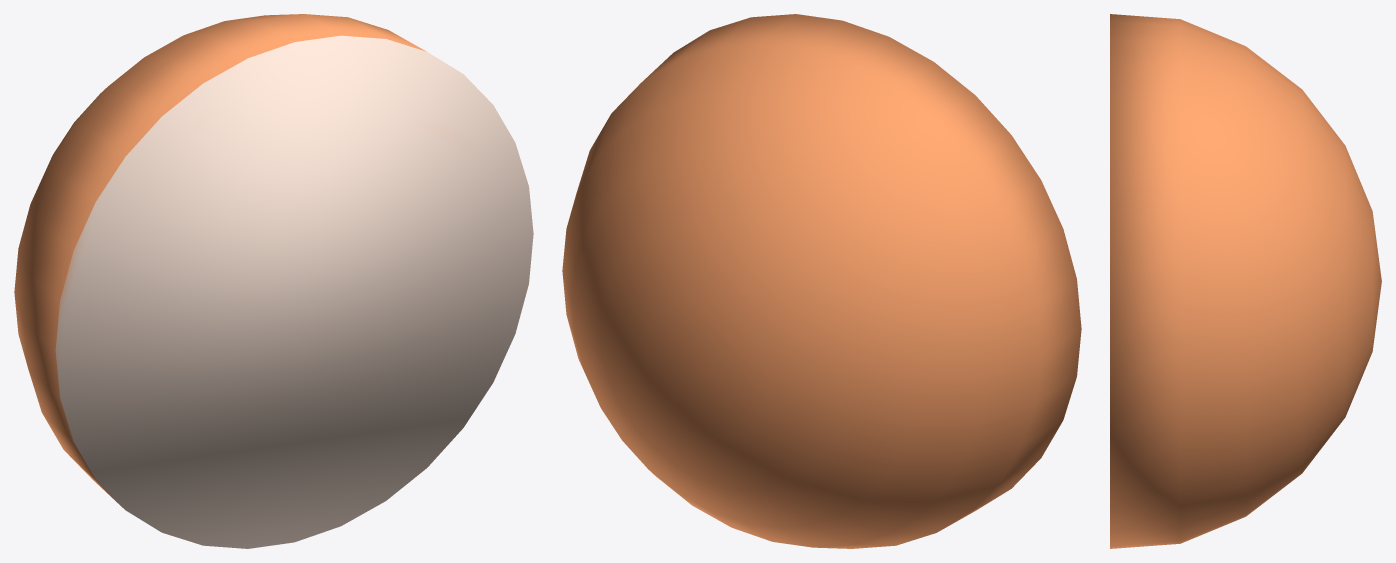
File: PanSuperior.fbx
3 renders of one model, left to right at view 1: azimuth 30°, elevation 25°; view 2: azimuth 150°, elevation 25°; view 3: azimuth 270°, elevation 25°, orthographic. The views are drawn at different scales.
Visible parts, largest first — view 1: Pan_Superior; view 2: Pan_Superior; view 3: Pan_Superior.
Boxes of the visible parts, <box> form: Pan_Superior: <box>14,14,533,548</box>; Pan_Superior: <box>562,14,1081,548</box>; Pan_Superior: <box>1110,14,1381,548</box>.
Size of the model in its own units: 70.45 by 70.45 by 35.76.
